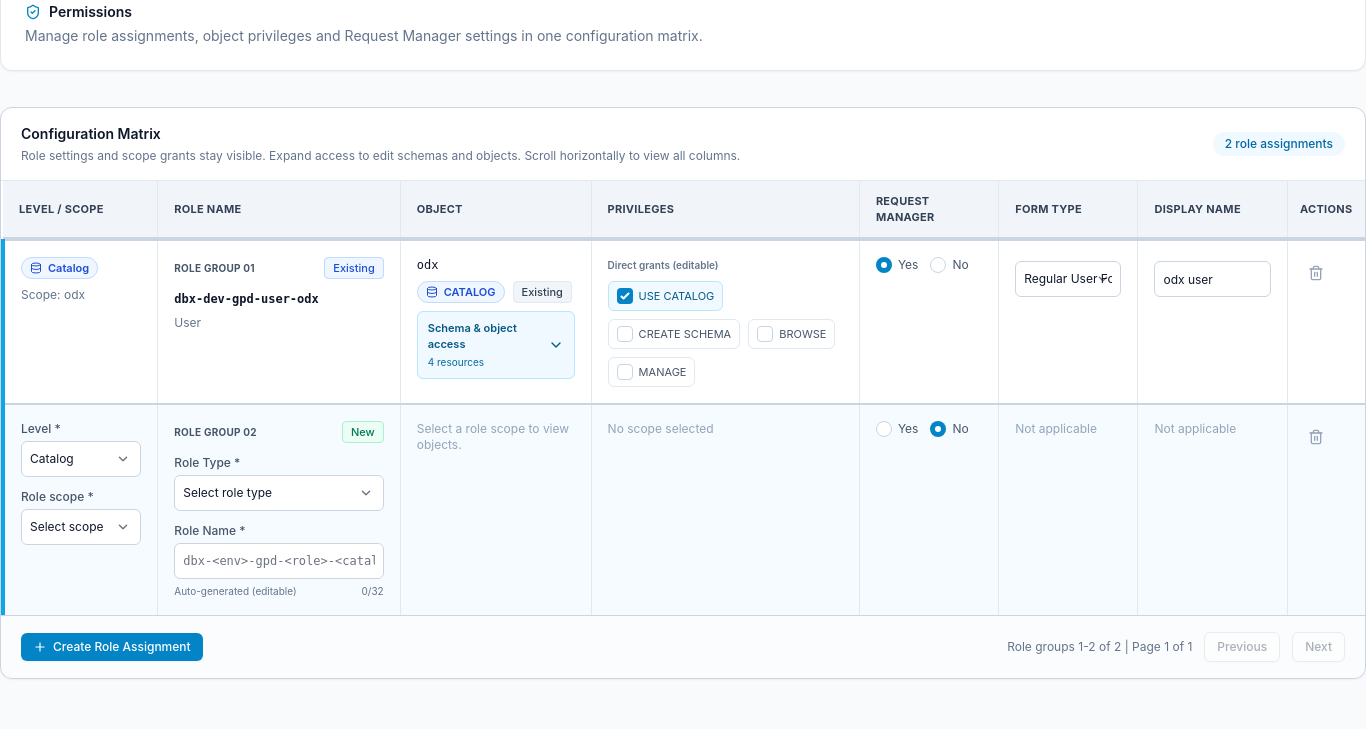
Test case: role assignment matrix › keeps role identities and catalog grants visible while expanding descendants independently
The width and height of the screenshot is (1366, 729).
Earlier steps of the test are not shown.
Select "odx" in the dropdown labelled "Role scope *" at (81, 527), box [21,509,141,545]
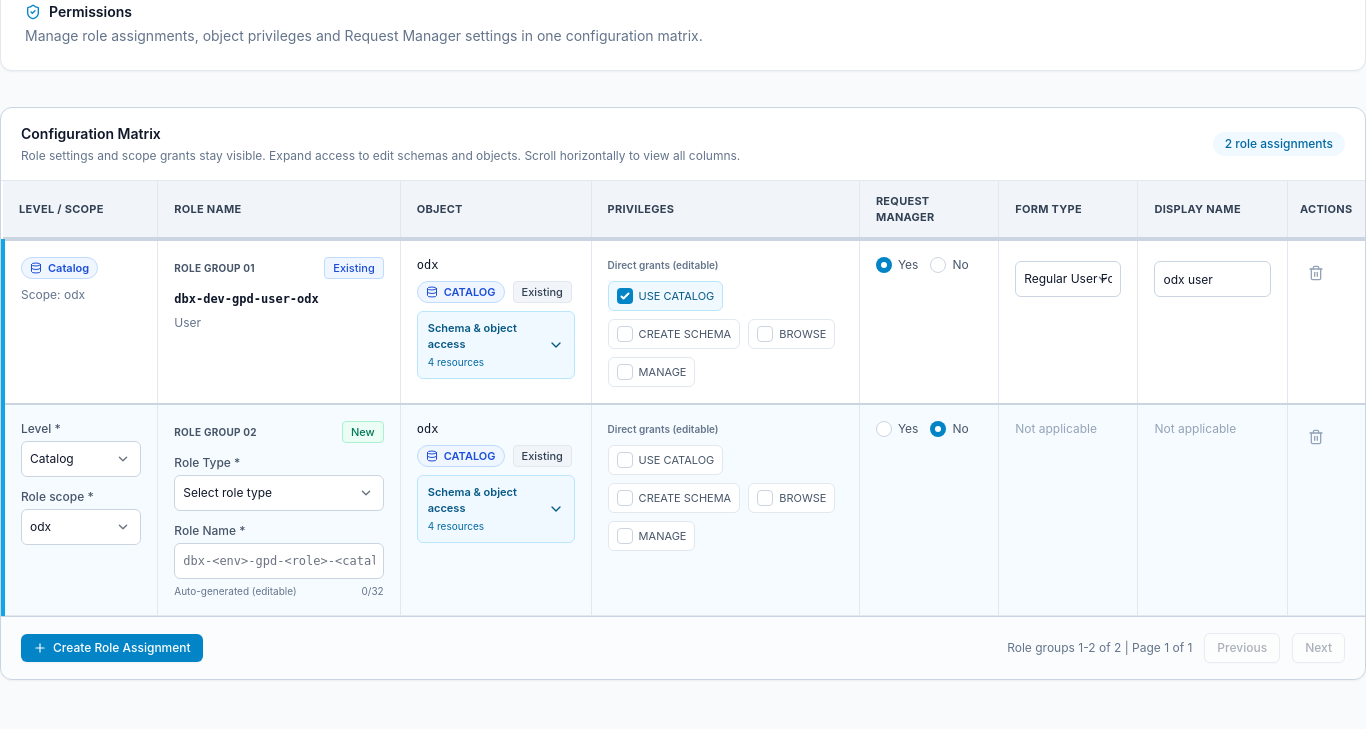
Select "User" in the dropdown labelled "Role Type *" at (279, 493), box [174,475,384,511]
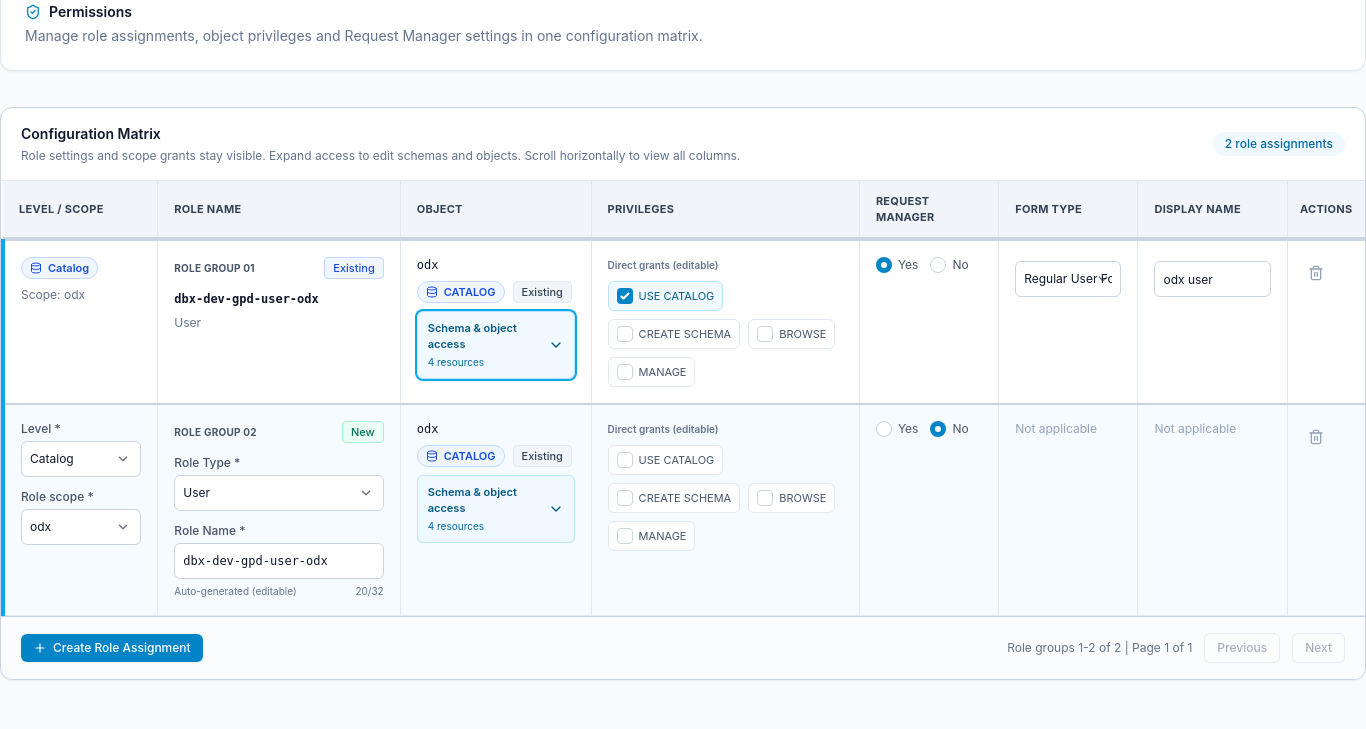
Expected: the field labelled "Role Name *" is shown, [174,543,384,579]
Press Enter
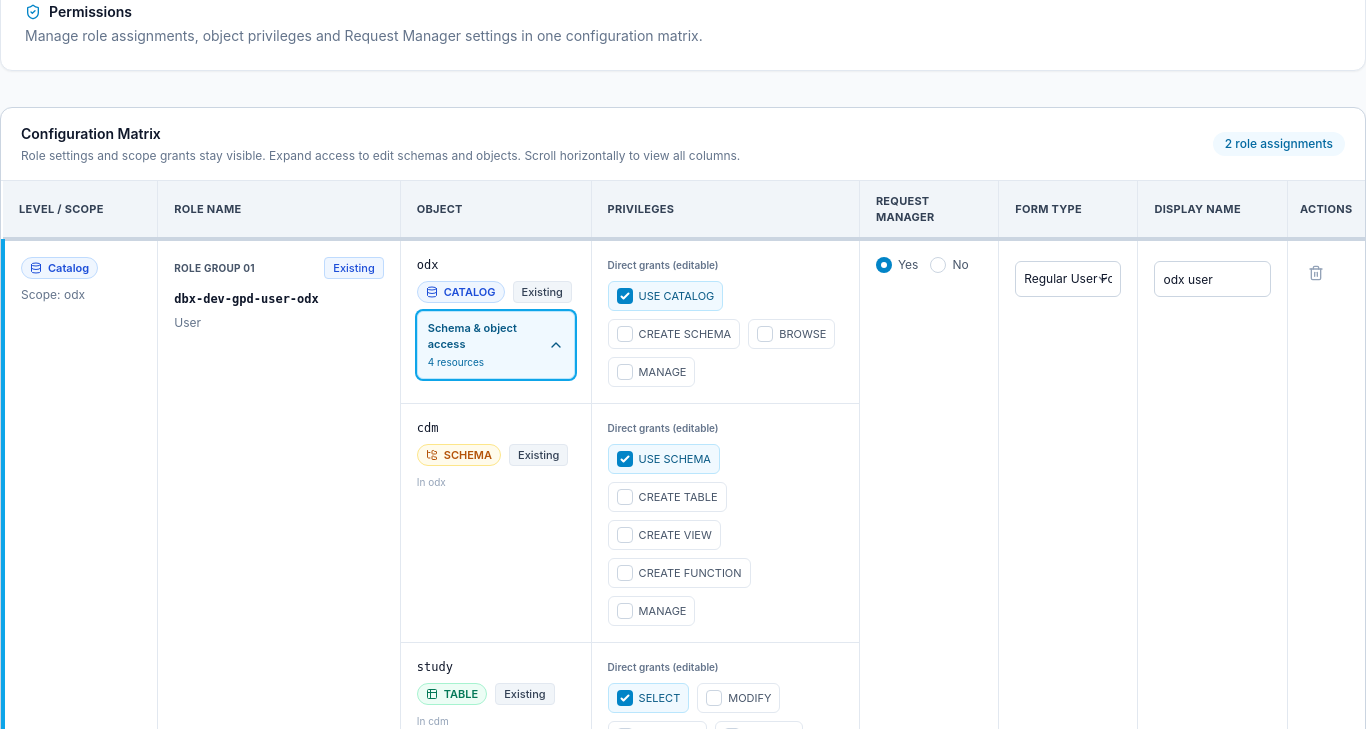
Expected: the button with aria-label "Schema and object access for" is expanded, [417,311,575,379]
Click the checkbox named "study: SELECT".
click(625, 698)  # box [617,690,633,706]
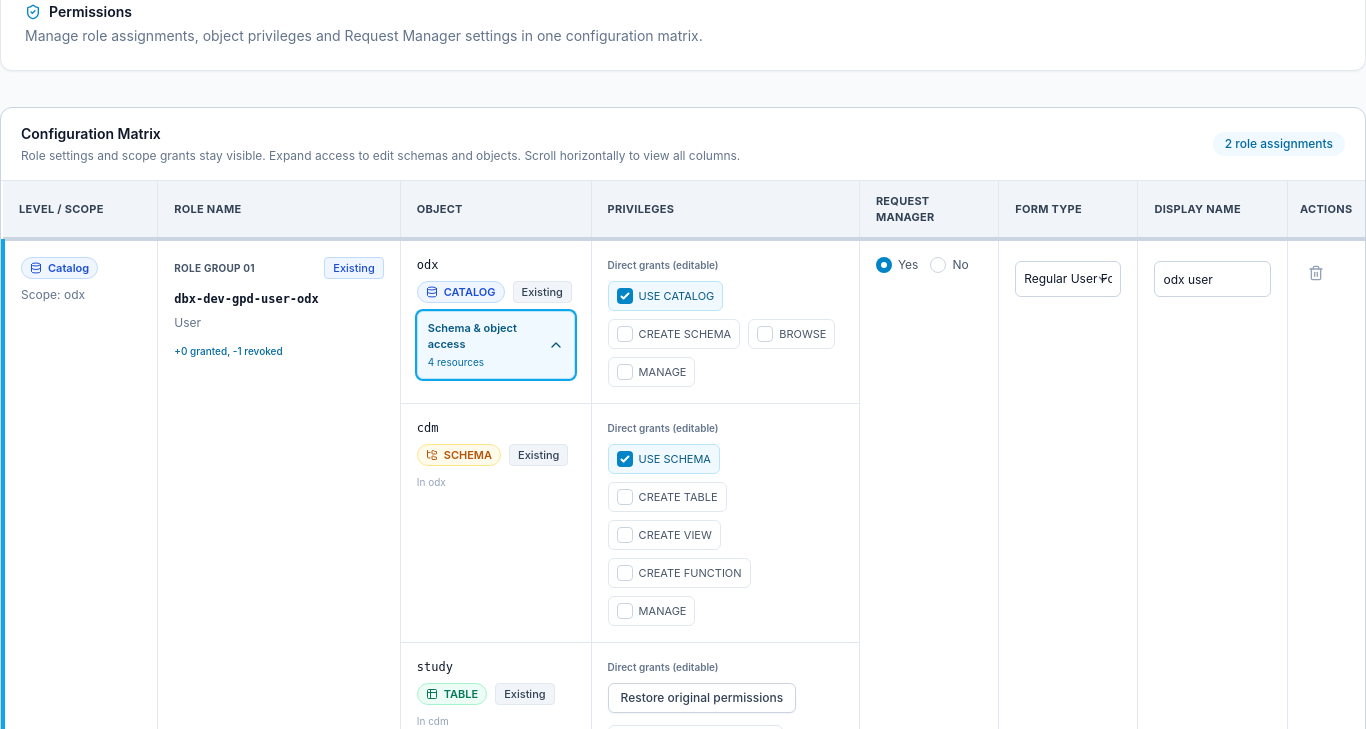
Type keys " "
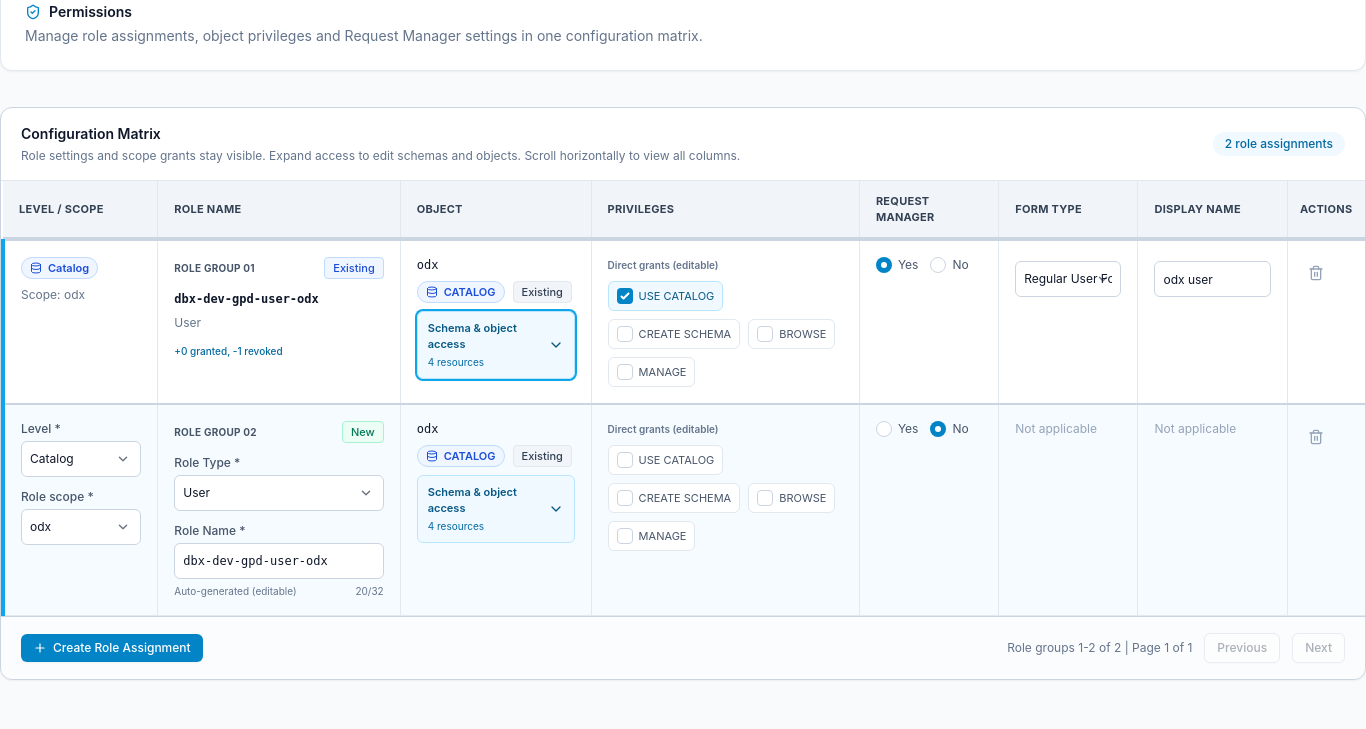
Expected: the checkbox named "odx: USE CATALOG" is shown, [617,288,633,304]
Expected: the text "+0 granted, -1 revoked" is shown, [174,345,283,357]
Expected: the button with aria-label "Schema and object access for" is collapsed
Click the button with aria-label "Schema and object access for".
click(496, 345)  # box [417,311,575,379]
(page scrolled)
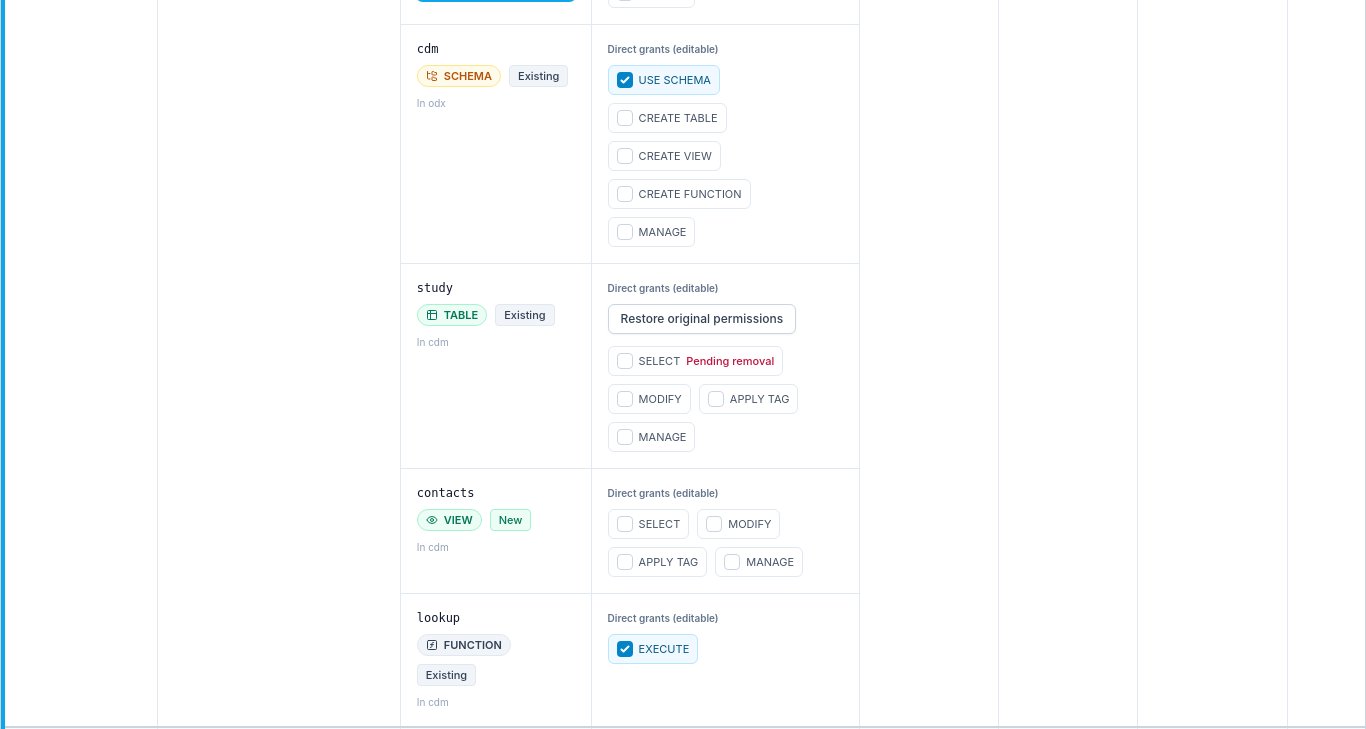
Expected: the checkbox named "study: SELECT" is not checked, [617,353,633,369]
